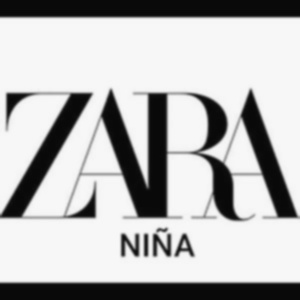zara: (297, 42, 300, 127)
